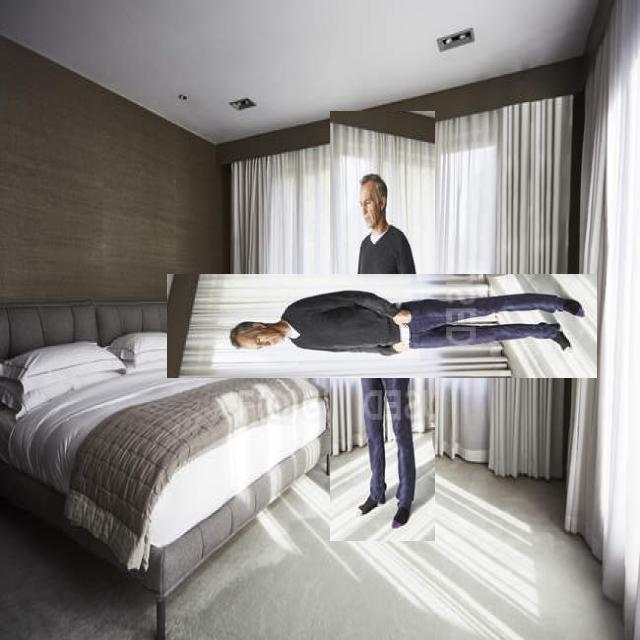NotFall: (120, 208, 598, 469)
